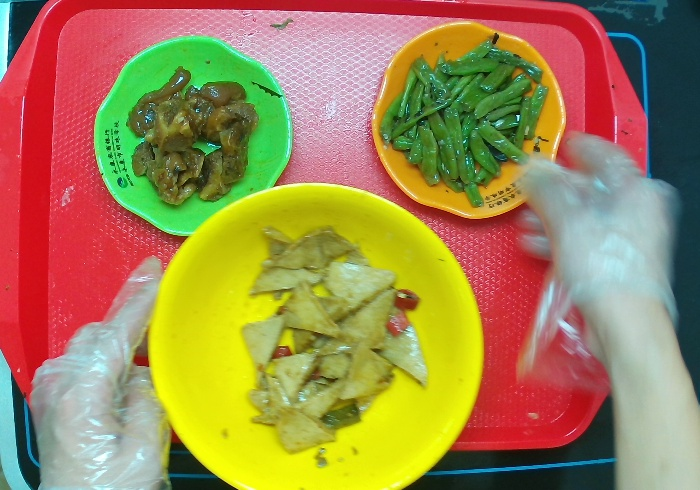YKMZ-Huang_Se_Tang_Wan: (147, 177, 482, 489)
YKMZ-Ju_Se_Ao_Bian_Wan: (365, 22, 565, 217)
YKMZ-Lv_Se_Ao_Bian_Wan: (92, 35, 297, 236)
